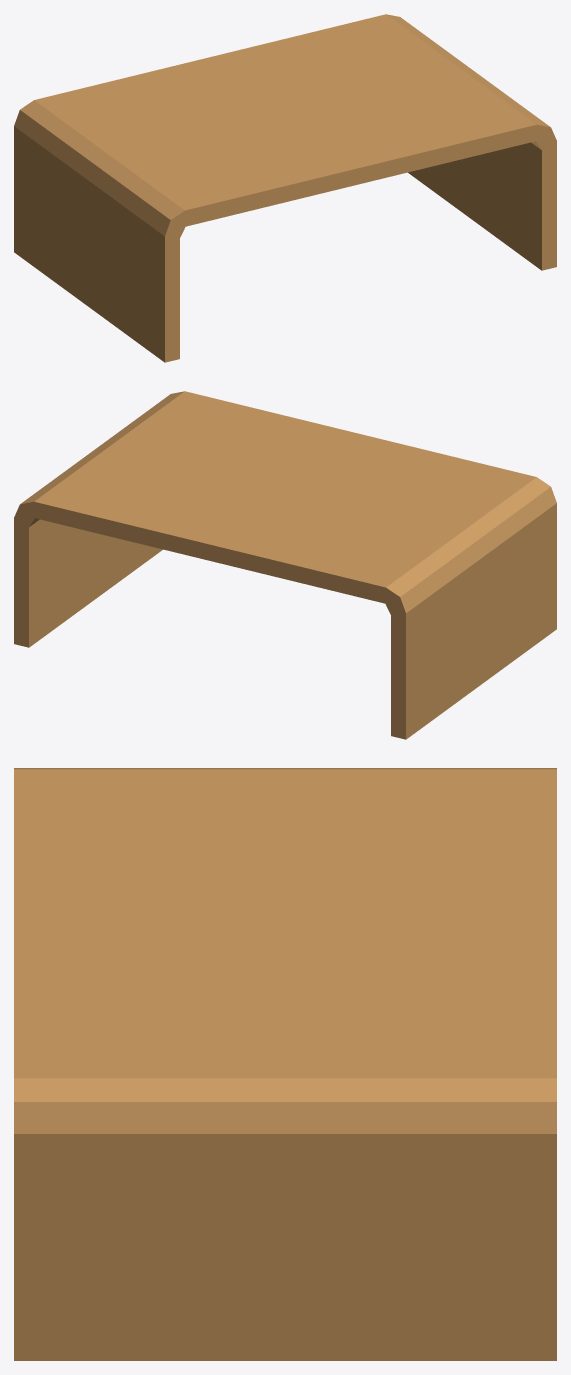
The model's file is furniture_stand-table-small.fbx.
3 views of the same model, one above another, from view 1: azimuth 30°, elevation 25°; view 2: azimuth 150°, elevation 25°; view 3: azimuth 270°, elevation 25° (orthographic). The views are drawn at different scales.
Parts seen in each view (by area): view 1: furniture_stand_table_small; view 2: furniture_stand_table_small; view 3: furniture_stand_table_small.
Part boxes in pixels (left/top/right/bottom): furniture_stand_table_small: left=14, top=14, right=556, bottom=362; furniture_stand_table_small: left=14, top=391, right=556, bottom=739; furniture_stand_table_small: left=14, top=768, right=556, bottom=1360.
Bounding box in the file's own units: 200 × 71.79 × 133.
